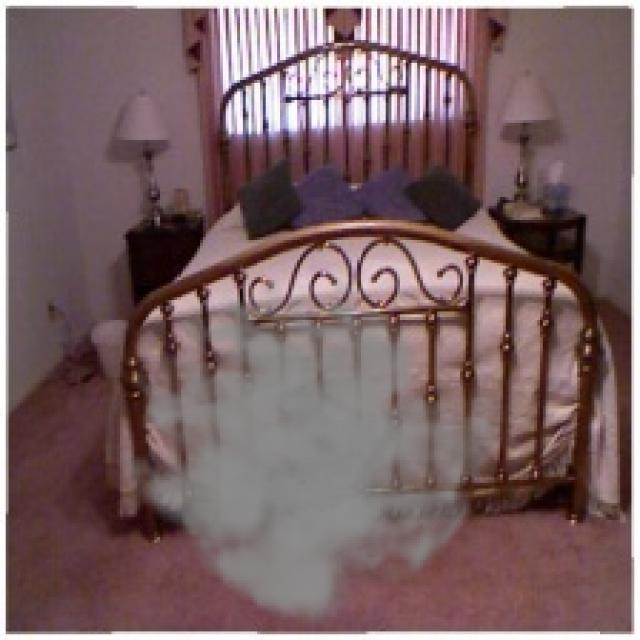Smoke: (106, 277, 512, 629)
